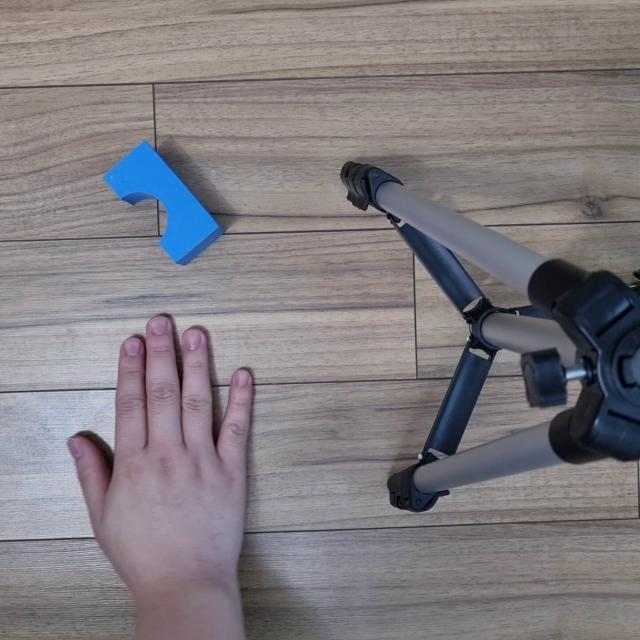block: (102, 130, 233, 274)
hand: (68, 310, 280, 587)
